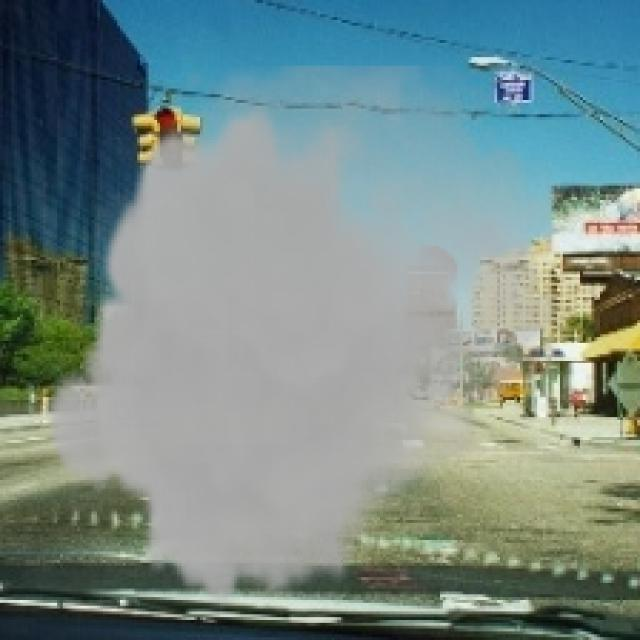smoke: (43, 66, 577, 608)
